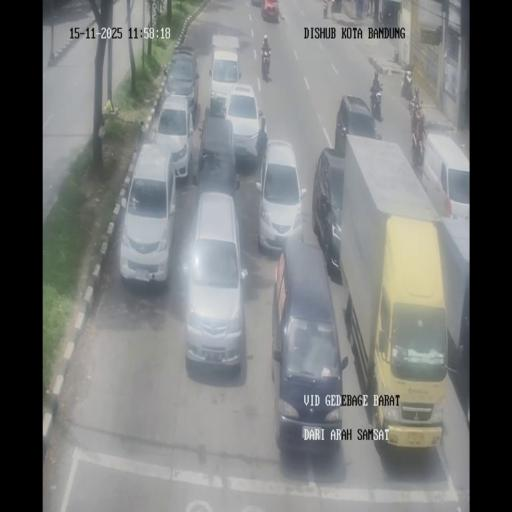car: (273, 240, 344, 454), (184, 192, 247, 371), (119, 144, 178, 285), (256, 136, 304, 255), (420, 134, 468, 222), (314, 148, 345, 278), (222, 82, 264, 166), (163, 46, 200, 120), (335, 93, 379, 152), (261, 0, 279, 22)
motorcycle: (410, 128, 424, 168), (369, 81, 383, 121), (401, 68, 414, 102), (409, 98, 421, 134), (260, 46, 271, 82), (322, 0, 330, 19), (331, 0, 341, 12), (379, 8, 383, 23)
truck: (336, 138, 456, 448), (436, 218, 469, 416)
